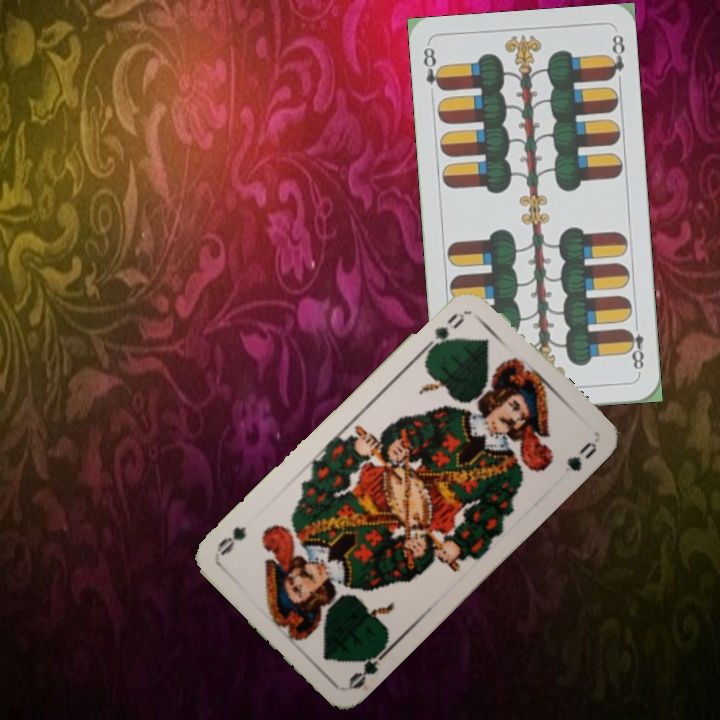E8: (622, 317, 647, 377), (419, 43, 446, 93)
GO: (345, 641, 393, 692), (420, 308, 469, 357)
